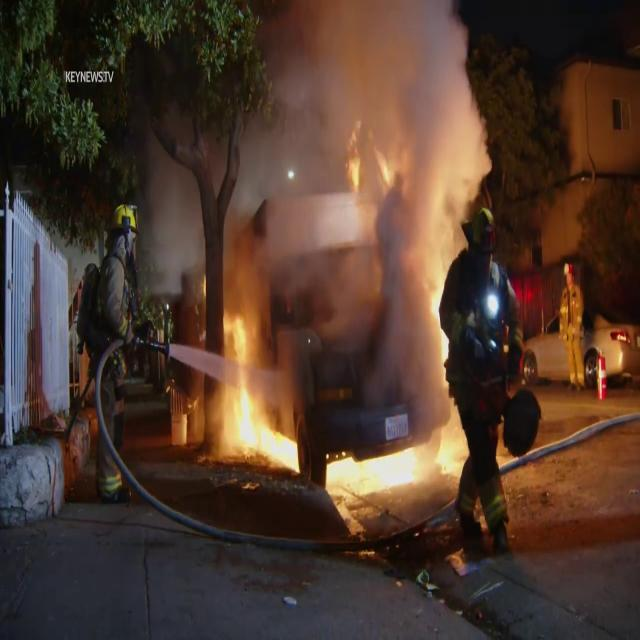Fire: (211, 312, 299, 476)
Smoke: (138, 0, 488, 305)
